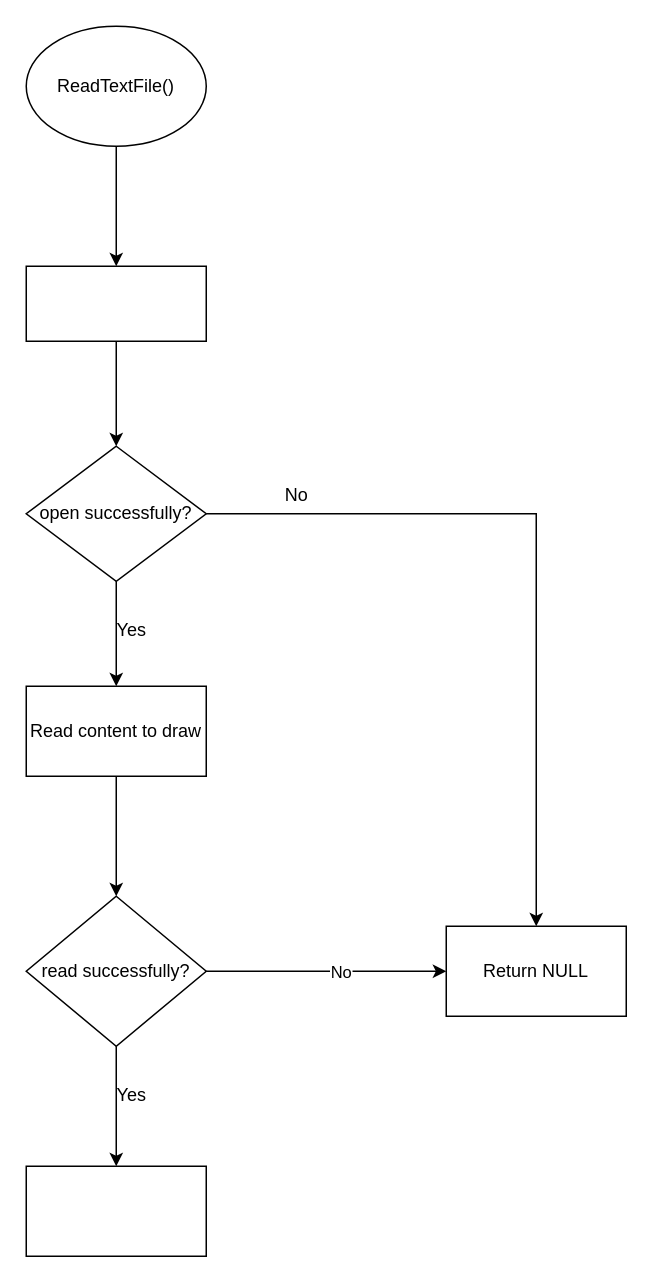
This 653x1283 diagram has some shape labels left out. The shapes that lost their labels are listed below. From the top down, each one's centre as x and y in pixels, then its label:
the point at 115,303: open file according to the path
the point at 115,1210: Return text pointer
